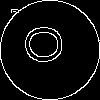O: (25, 25, 72, 64)
